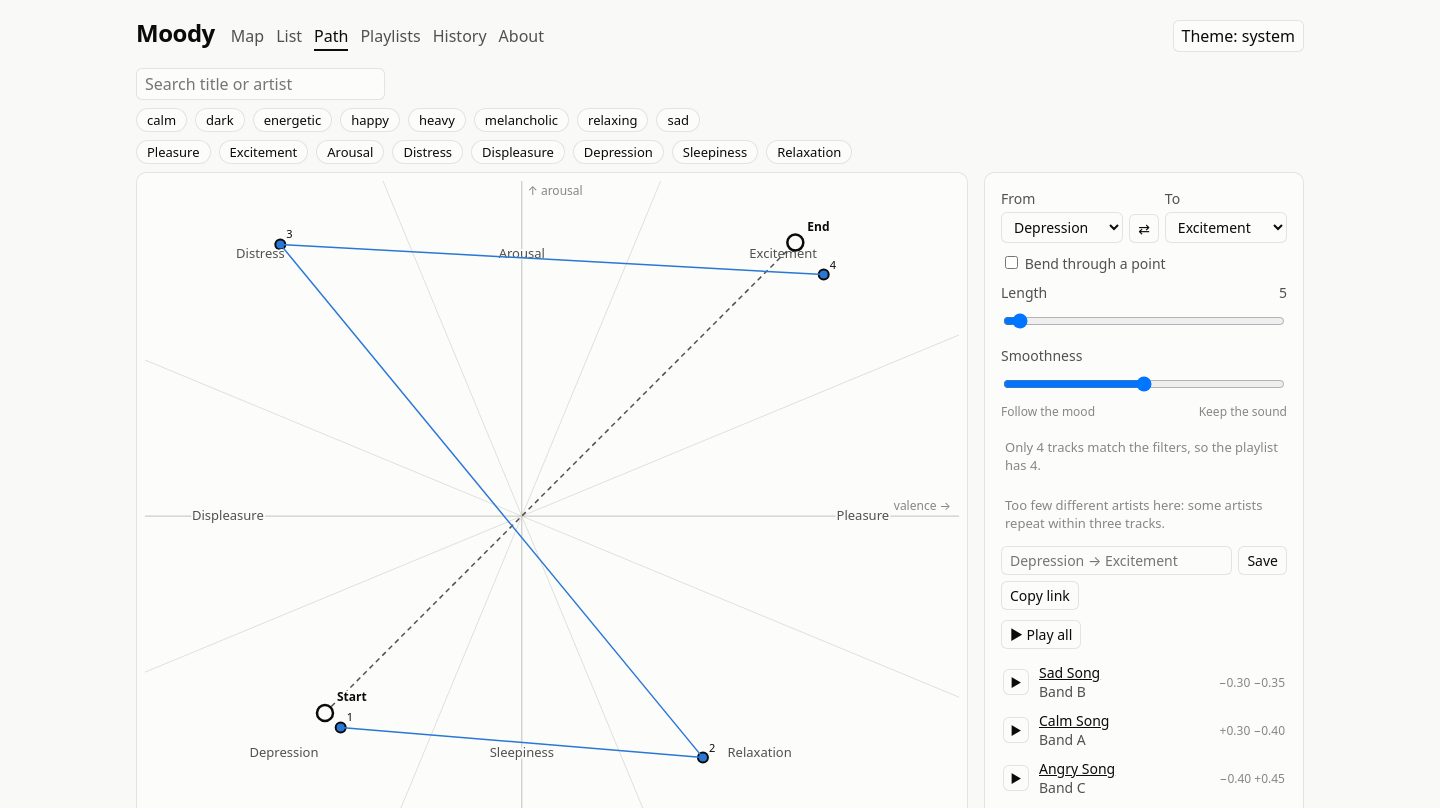
Test: the endpoints come from the URL, and the pickers change them
Select "Distress" in the dropdown labelled "To": (1226, 228) [1165,212,1287,243]
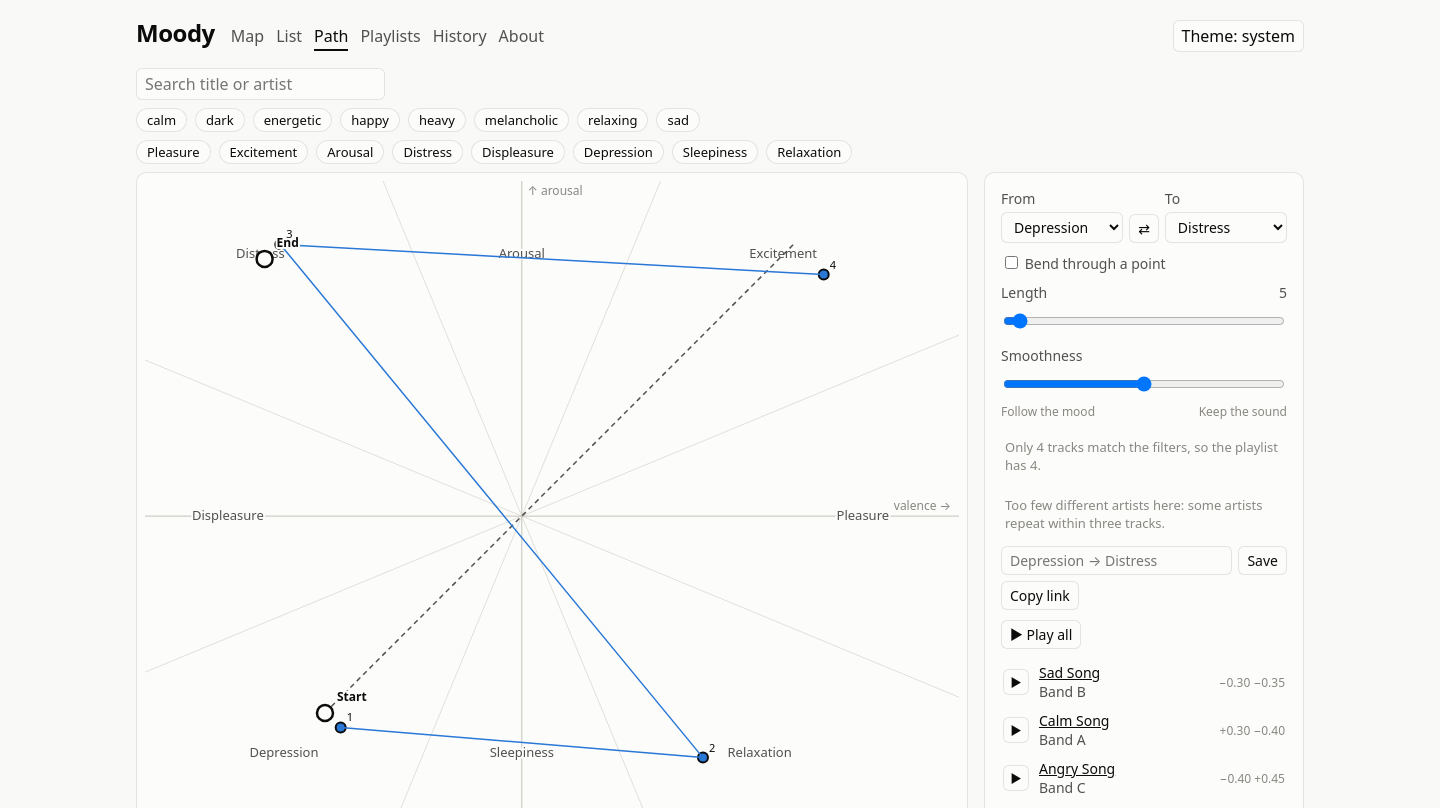
Click the button named "Swap start and end": click(1144, 228) [1129,214,1159,243]
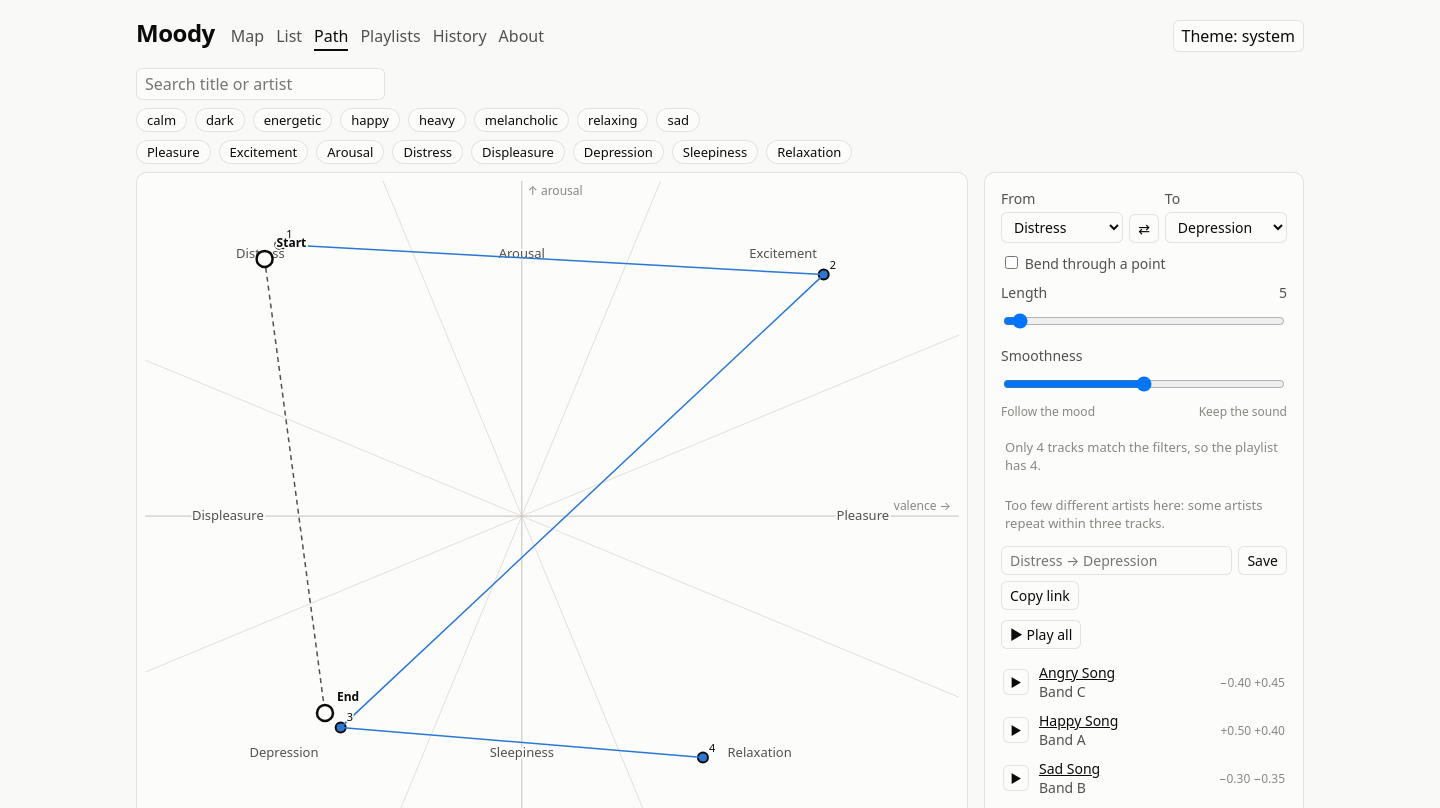
Check: the link "Angry Song" is shown, box [1039,663,1115,682]
Check: the dropdown labelled "From" shows "Distress", box [1001,212,1123,243]
